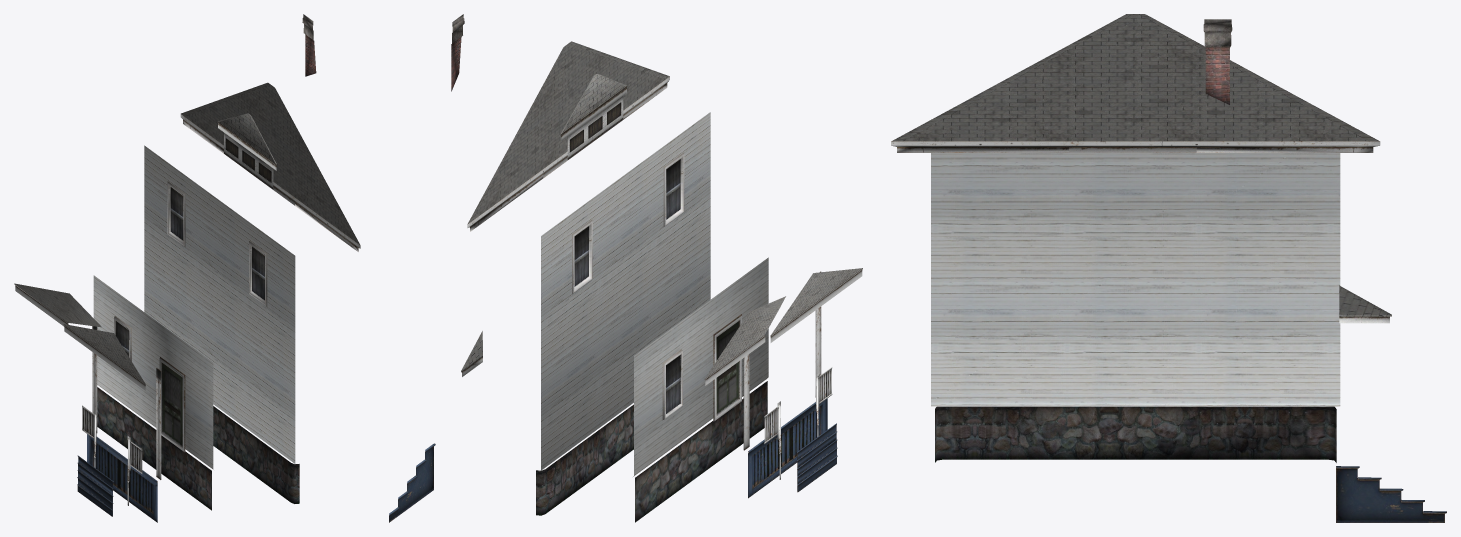
File: definingfeatures-house.glb
3 views of the same model, side by side, from view 1: azimuth 30°, elevation 25°; view 2: azimuth 150°, elevation 25°; view 3: azimuth 270°, elevation 25° (orthographic). The views are drawn at different scales.
Visible parts, largest first — view 1: 01 house_House_Side_D_0, 08 house_House_Side_D_0.001, 02 house_Farm_house_D_0.005, 11 house_Farm_house_D_0.003, 10 house_Farm_house_D_0.052, 09 house_Farm_house_D_0.004, 12 house_Farm_house_D_0.016, 16 house_Roof_D_0.001, 03 house_Farm_house_D_0.009, 13 house_Farm_house_D_0.020, 04 house_Farm_house_D_0.007, 05 house_Farm_house_D_0.006 (+6 smaller); view 2: 01 house_House_Side_D_0, 08 house_House_Side_D_0.001, 02 house_Farm_house_D_0.005, 11 house_Farm_house_D_0.003, 10 house_Farm_house_D_0.052, 09 house_Farm_house_D_0.004, 12 house_Farm_house_D_0.016, 16 house_Roof_D_0.001, 03 house_Farm_house_D_0.009, 13 house_Farm_house_D_0.020, 05 house_Farm_house_D_0.006, 14 house_Farm_house_D_0.041 (+6 smaller); view 3: 01 house_House_Side_D_0, 02 house_Farm_house_D_0.005, 10 house_Farm_house_D_0.052, 14 house_Farm_house_D_0.041, 06 house_Farm_house_D_0.053, 15 house_Farm_house_D_0.047.
Part boxes in pixels (x1=…): 01 house_House_Side_D_0: x1=144, y1=145, x2=295, y2=463; 08 house_House_Side_D_0.001: x1=93, y1=275, x2=213, y2=469; 02 house_Farm_house_D_0.005: x1=180, y1=82, x2=360, y2=251; 11 house_Farm_house_D_0.003: x1=97, y1=387, x2=211, y2=510; 10 house_Farm_house_D_0.052: x1=213, y1=406, x2=299, y2=503; 09 house_Farm_house_D_0.004: x1=14, y1=283, x2=145, y2=390; 12 house_Farm_house_D_0.016: x1=87, y1=434, x2=157, y2=522; 16 house_Roof_D_0.001: x1=217, y1=113, x2=276, y2=189; 03 house_Farm_house_D_0.009: x1=159, y1=357, x2=185, y2=452; 13 house_Farm_house_D_0.020: x1=77, y1=455, x2=113, y2=516; 04 house_Farm_house_D_0.007: x1=167, y1=181, x2=185, y2=247; 05 house_Farm_house_D_0.006: x1=249, y1=241, x2=267, y2=306; 01 house_House_Side_D_0: x1=539, y1=112, x2=710, y2=471; 08 house_House_Side_D_0.001: x1=633, y1=257, x2=768, y2=476; 02 house_Farm_house_D_0.005: x1=467, y1=41, x2=669, y2=231; 11 house_Farm_house_D_0.003: x1=635, y1=381, x2=767, y2=522; 10 house_Farm_house_D_0.052: x1=536, y1=404, x2=633, y2=515; 09 house_Farm_house_D_0.004: x1=704, y1=268, x2=862, y2=385; 12 house_Farm_house_D_0.016: x1=748, y1=398, x2=827, y2=498; 16 house_Roof_D_0.001: x1=560, y1=74, x2=627, y2=159; 03 house_Farm_house_D_0.009: x1=713, y1=314, x2=741, y2=421; 13 house_Farm_house_D_0.020: x1=797, y1=423, x2=837, y2=492; 05 house_Farm_house_D_0.006: x1=663, y1=152, x2=684, y2=226; 14 house_Farm_house_D_0.041: x1=389, y1=443, x2=435, y2=522; 01 house_House_Side_D_0: x1=931, y1=119, x2=1340, y2=406; 02 house_Farm_house_D_0.005: x1=891, y1=14, x2=1380, y2=152; 10 house_Farm_house_D_0.052: x1=935, y1=406, x2=1336, y2=462; 14 house_Farm_house_D_0.041: x1=1336, y1=466, x2=1446, y2=522; 06 house_Farm_house_D_0.053: x1=1203, y1=19, x2=1232, y2=104; 15 house_Farm_house_D_0.047: x1=1339, y1=285, x2=1391, y2=323.
Bounding box in the file's own units: 72.05 × 97.6 × 94.66.
Materials: 3 (3 with a texture image).
